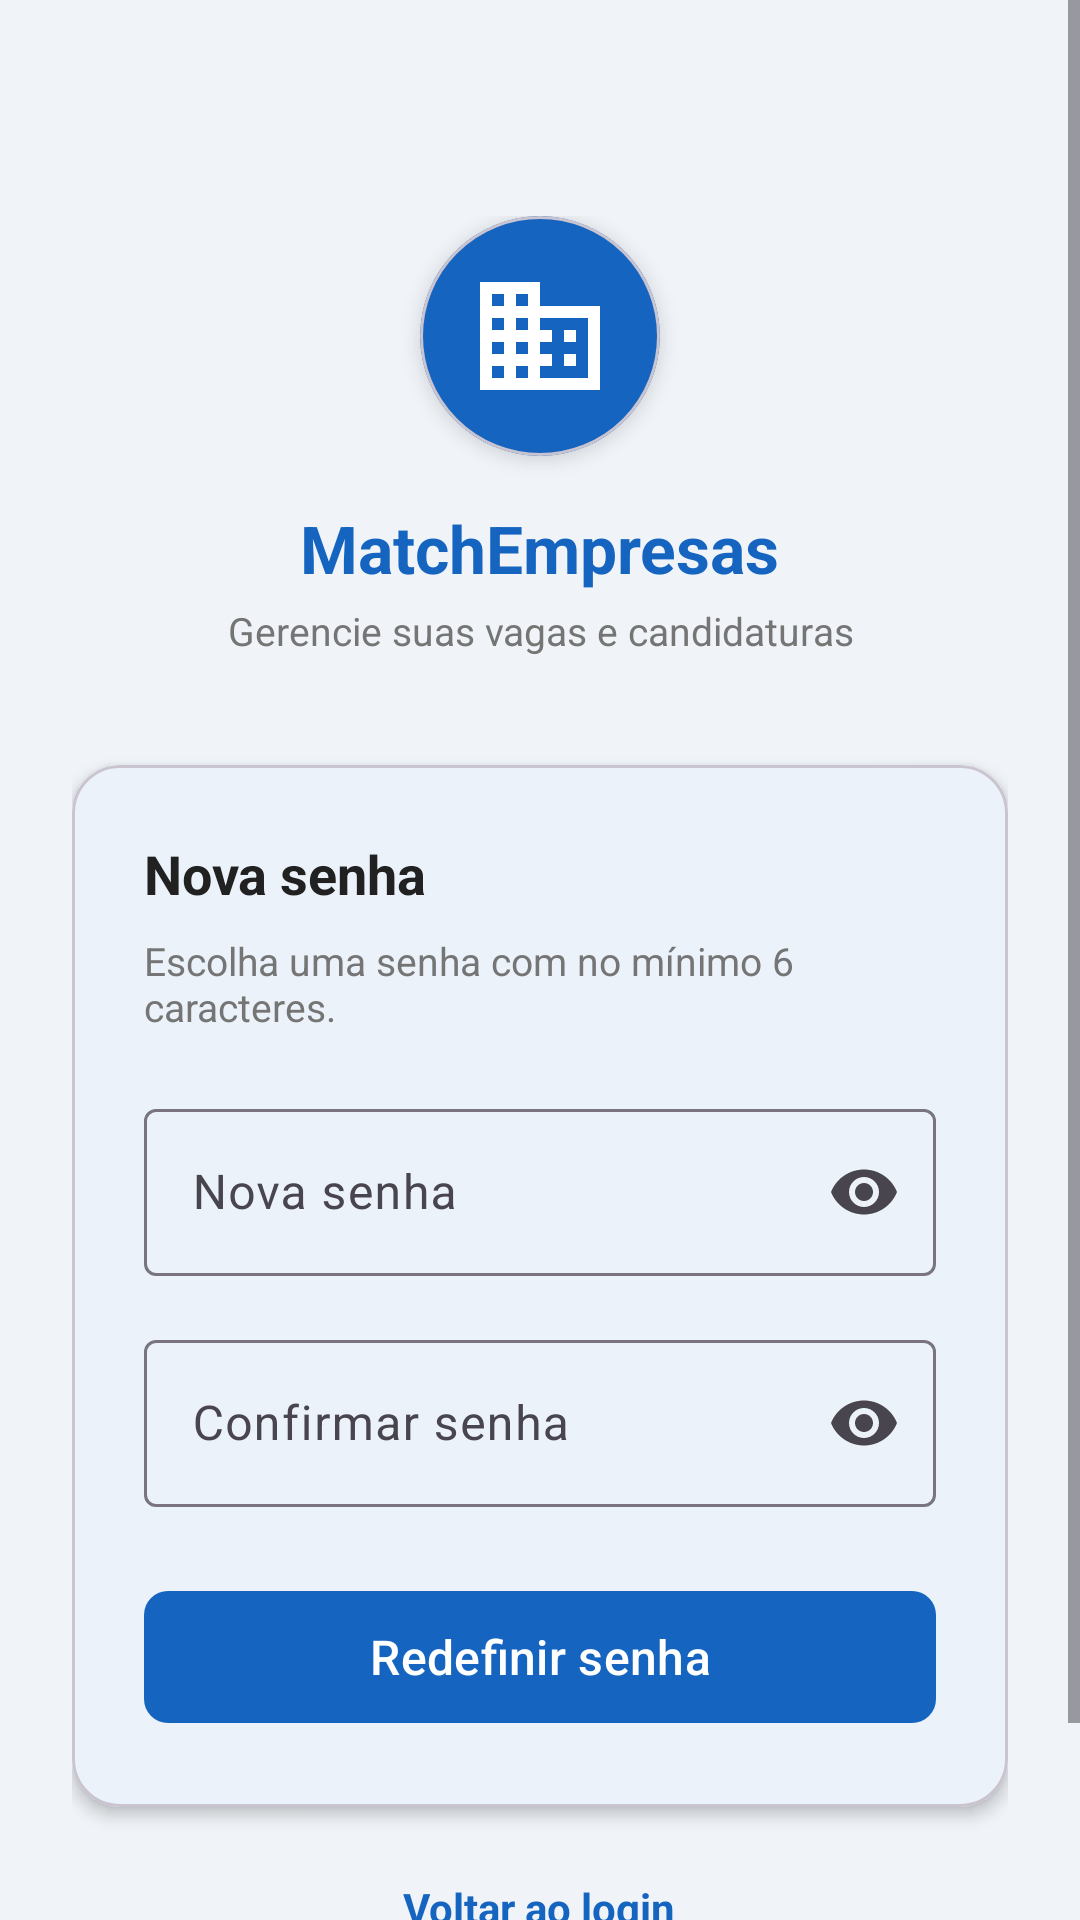

Named icons in this screenshot (1080×1920) and their centers, point (x, y):
business: point (540, 336)
